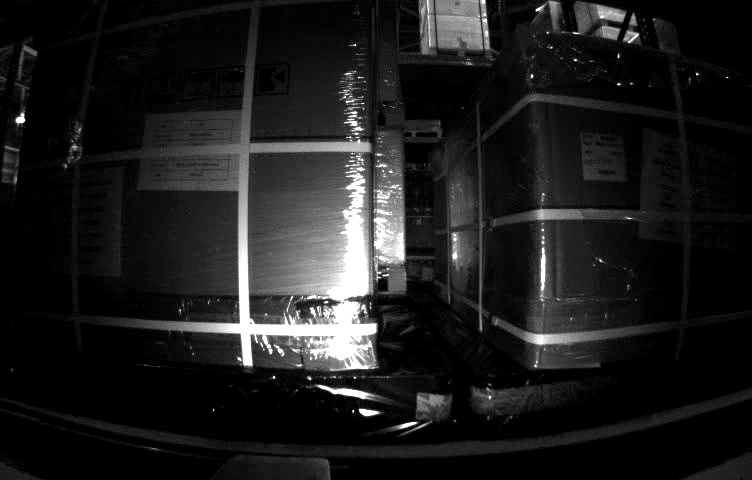True Barcode: (583, 134, 628, 182)
